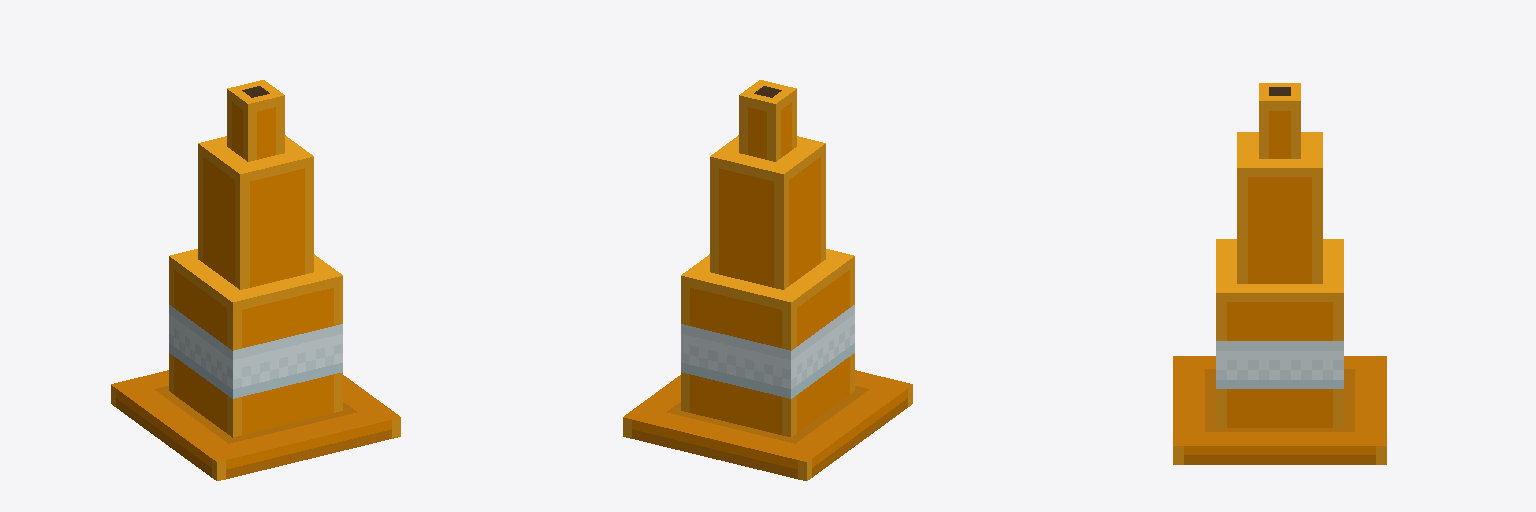
3 renders of one model, left to right at view 1: azimuth 30°, elevation 25°; view 2: azimuth 150°, elevation 25°; view 3: azimuth 270°, elevation 25°, orthographic.
Parts seen in each view (by area): view 1: cube; view 2: cube; view 3: cube.
Boxes of the visible parts, box(x1,y1,x2,y2) form: cube: box(111, 80, 400, 480); cube: box(623, 80, 912, 480); cube: box(1173, 83, 1386, 464).
Bounding box in the file's own units: 0.625 × 1.06 × 0.625.
Materials: 1 (1 with a texture image).